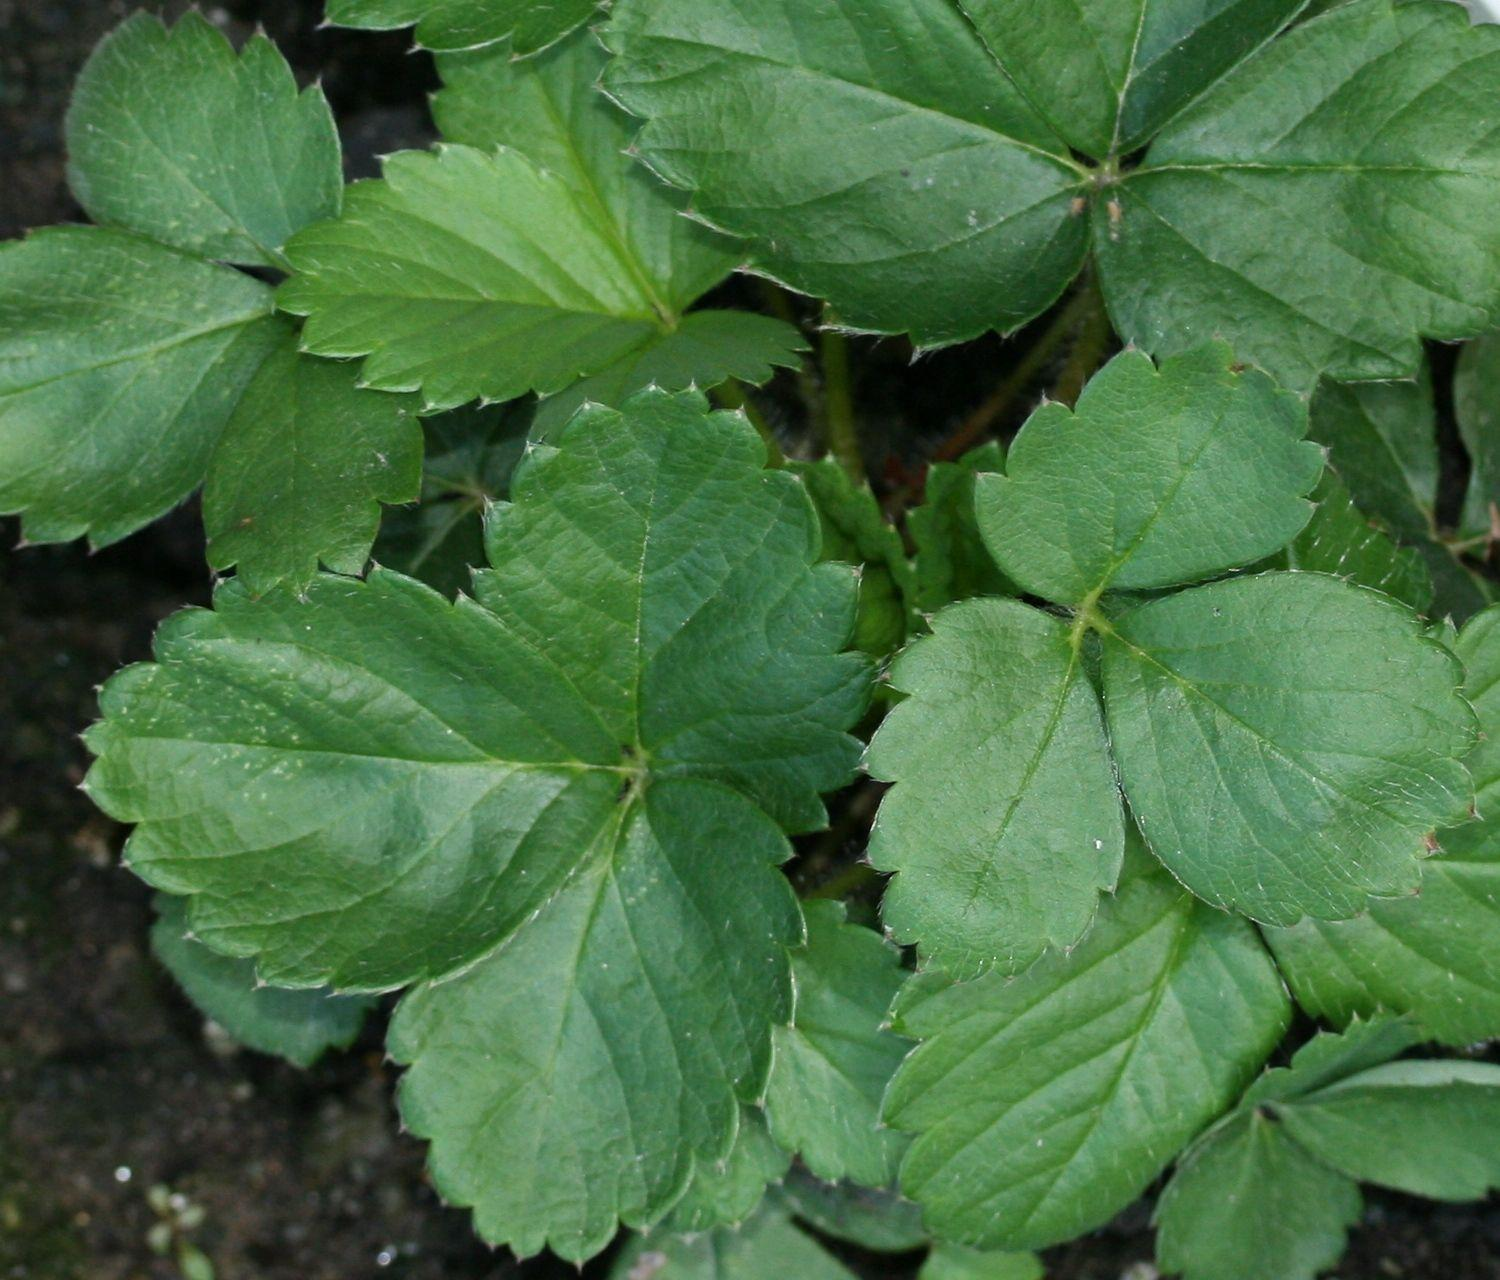Strawberry leaf: (356, 764, 831, 1255), (91, 566, 624, 988), (439, 368, 869, 808), (1088, 574, 1464, 919), (276, 116, 685, 411), (857, 588, 1141, 1006), (977, 315, 1337, 626), (1, 206, 320, 550), (48, 6, 387, 286)
